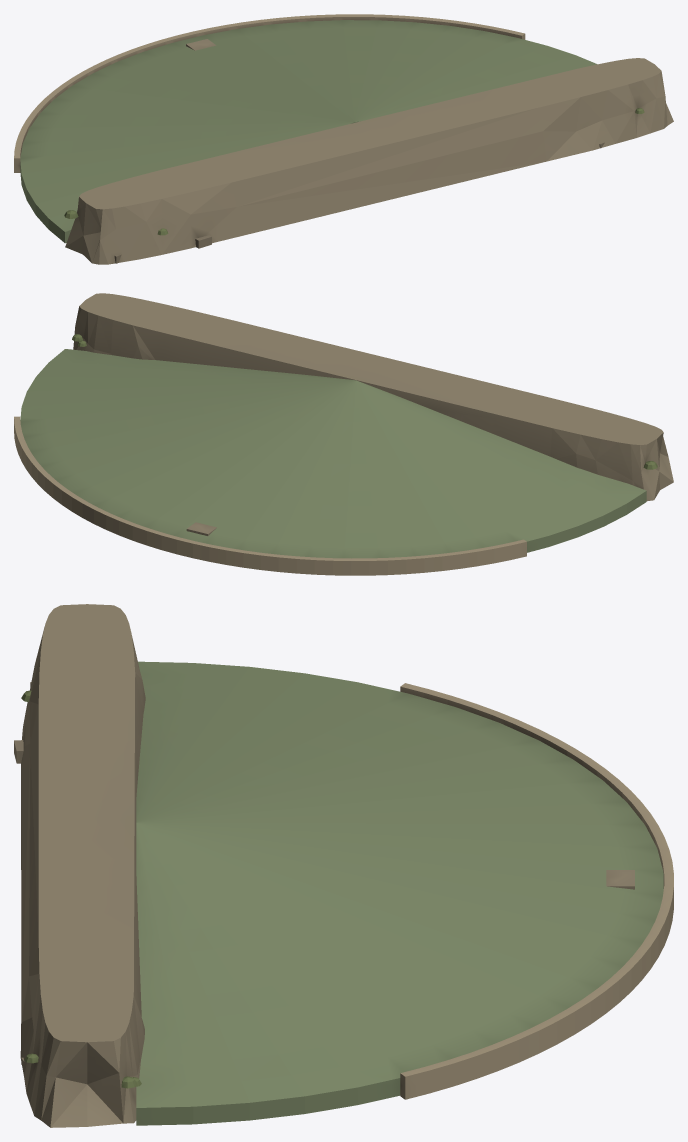
The model's file is pnyx-430.glb.
3 renders of one model, top to bottom at view 1: azimuth 30°, elevation 25°; view 2: azimuth 150°, elevation 25°; view 3: azimuth 270°, elevation 25°, orthographic. The views are drawn at different scales.
Visible parts, largest first — view 1: p0_hill, p1_assembly; view 2: p0_hill, p1_assembly; view 3: p0_hill, p1_assembly.
Part boxes in pixels (x1,y1,x2,y2): p0_hill: (20, 20, 673, 264); p1_assembly: (14, 14, 525, 172); p0_hill: (20, 293, 673, 558); p1_assembly: (14, 416, 526, 575); p0_hill: (14, 604, 663, 1127); p1_assembly: (400, 683, 673, 1099).
Size of the model in its own units: 109 by 9.05 by 67.48.
